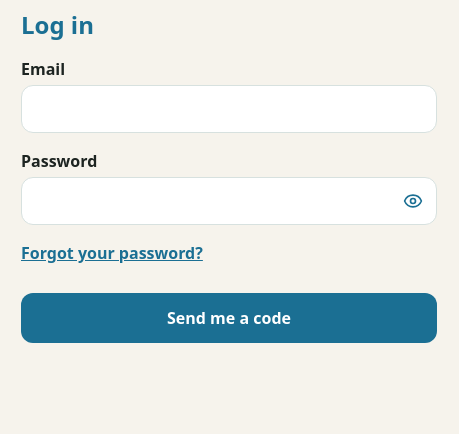
Test case: step 1: email and password › on 403 says: This account is deactivated.
This screenshot has width=459, height=434.
In the field labelled "Email": coordinates (229, 109) left=21, top=85, right=437, bottom=133, type "ada@example.com"
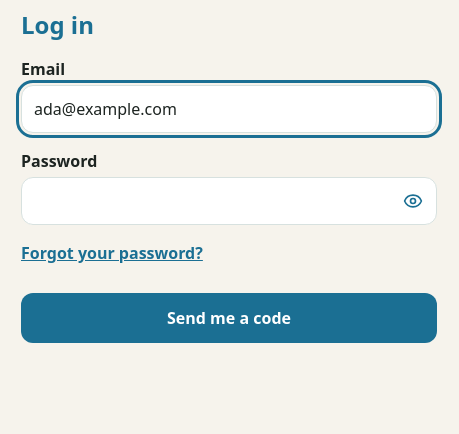
In the password field labelled "Password": coordinates (229, 201) left=21, top=177, right=437, bottom=225, type "a-long-password"
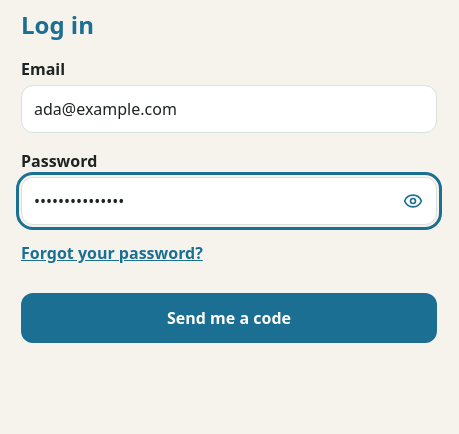
Click the button "Send me a code": coordinates (229, 318) left=21, top=293, right=437, bottom=343
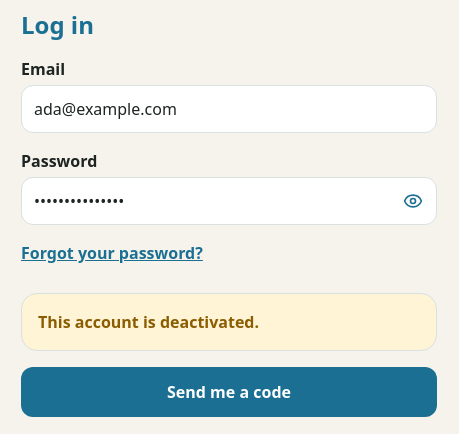
Check: the text "This account is deactivated." is shown, box left=21, top=293, right=437, bottom=351
